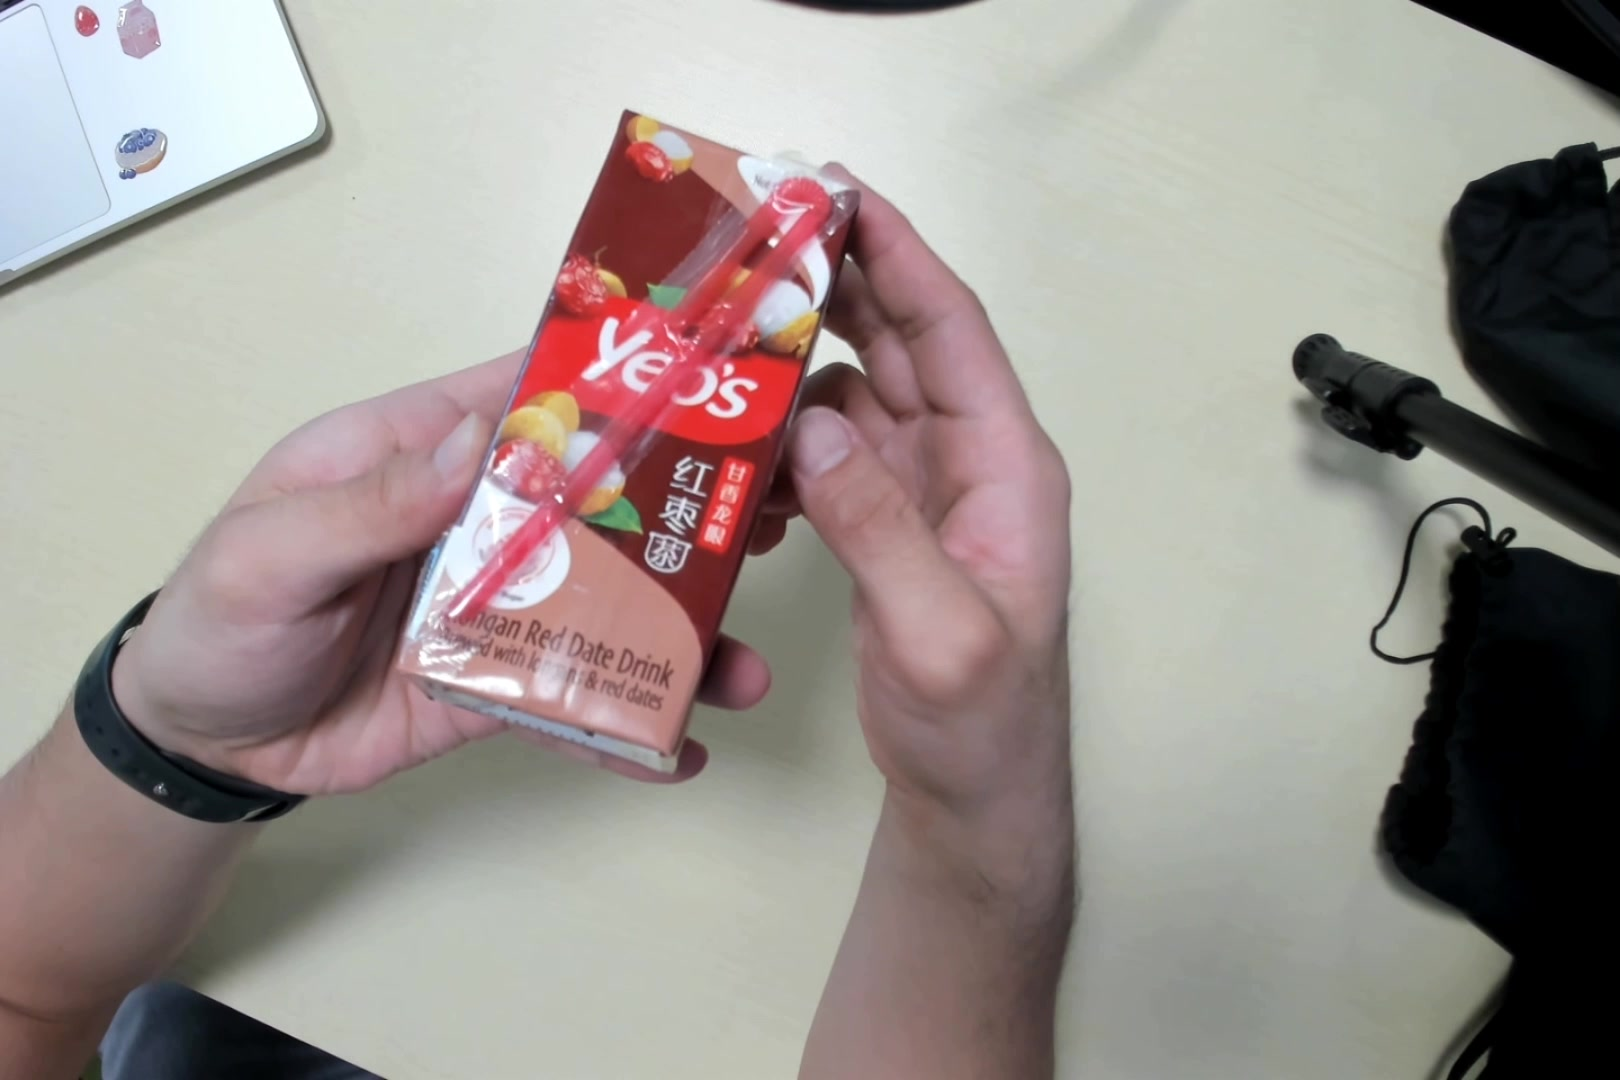TeaDrink_200-299g_Halal_Healthy: (405, 106, 865, 781)
